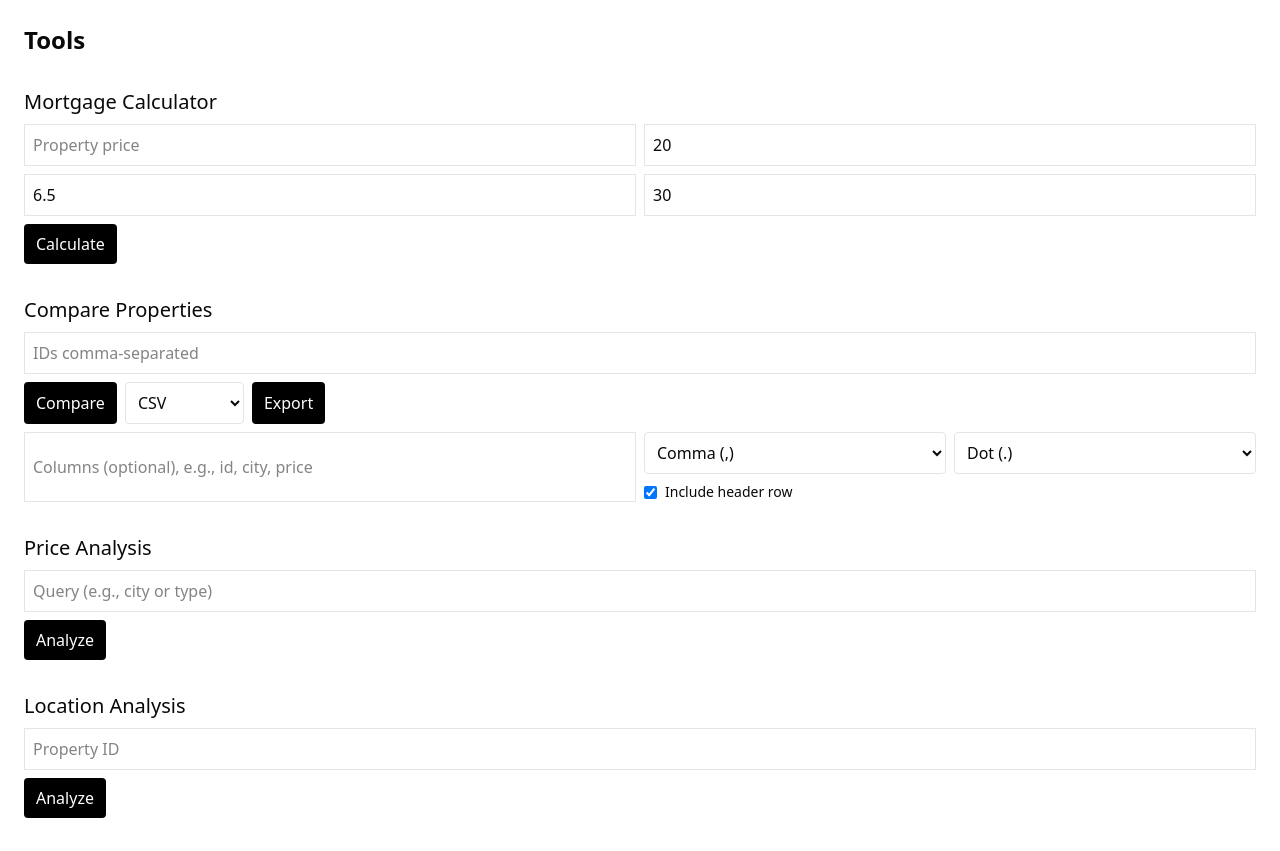
Test case: ToolsPage › runs price analysis
Type "Warsaw" into the field with placeholder "Query (e.g., city or type)" at (640,591), box [24,570,1256,612]
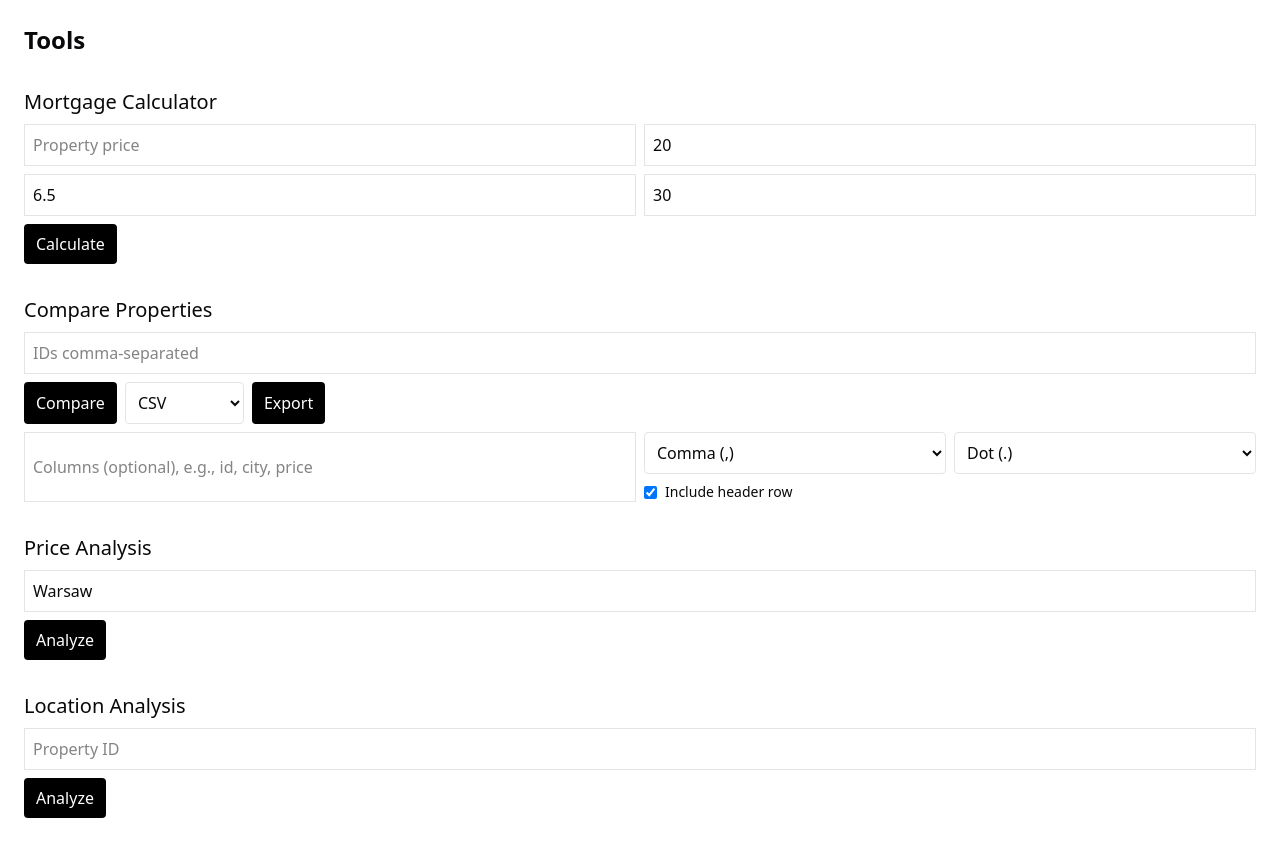
Click the button "Analyze" below "Price Analysis" at (65,640), box [24,620,106,660]
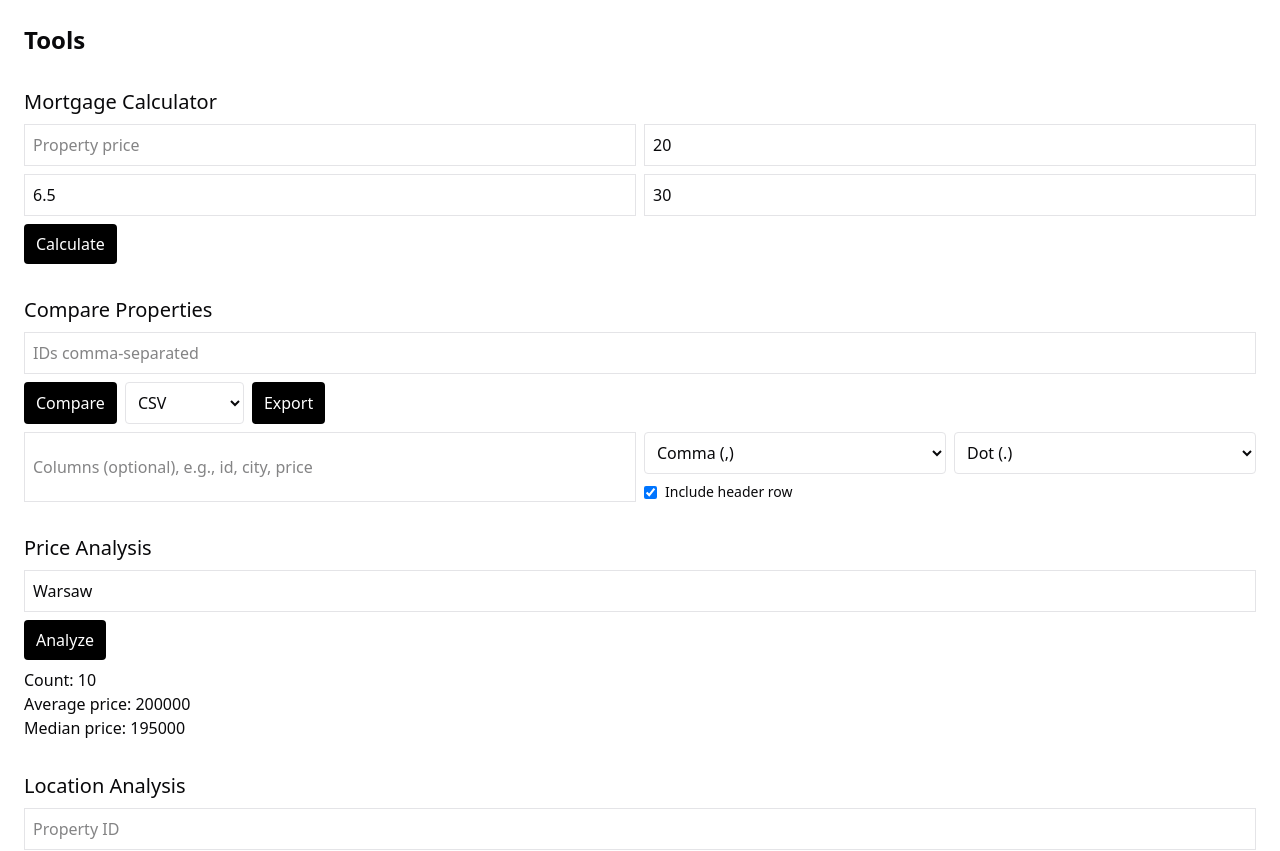
Check: the text "Average price: 200000" is shown, box [24,693,190,715]
